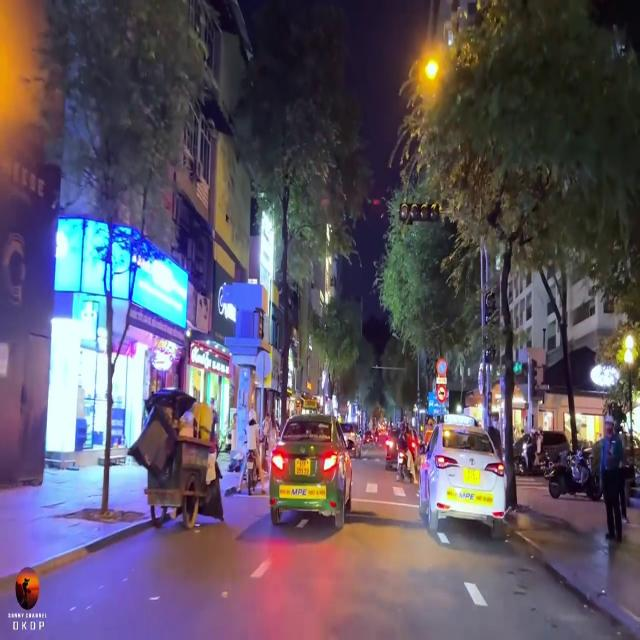bien_vang: (295, 456, 316, 480)
